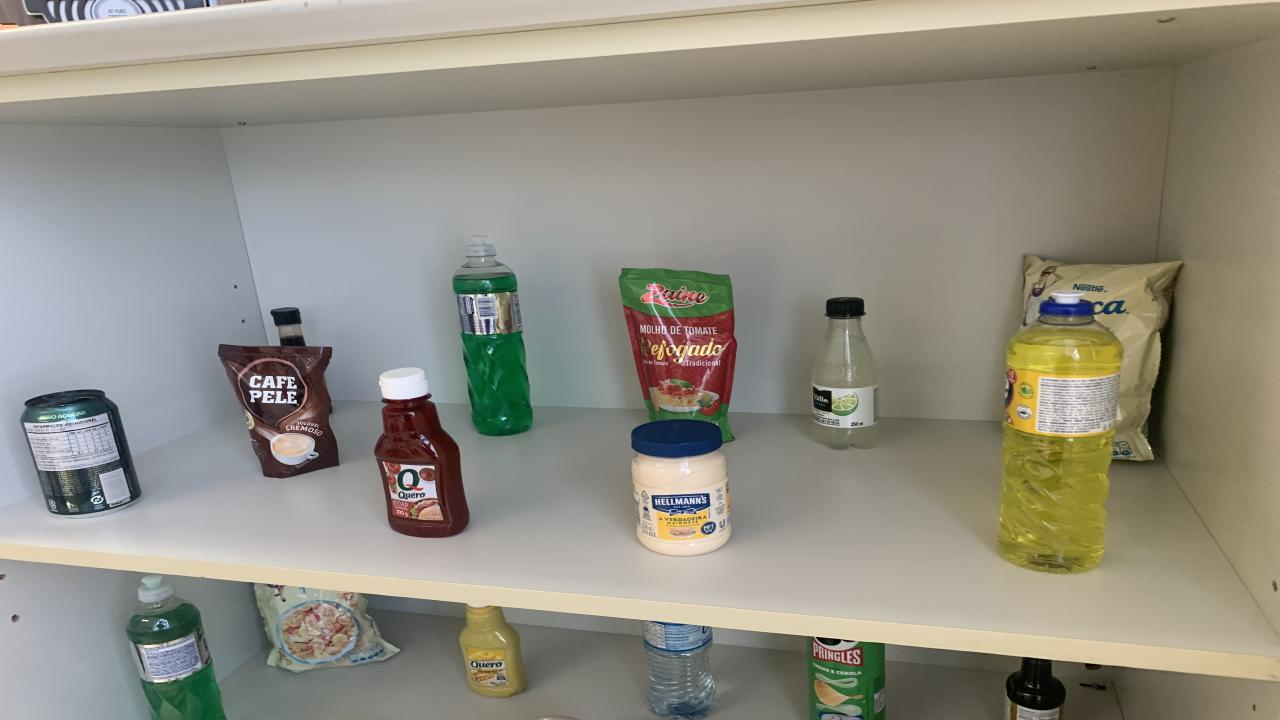Coffee-Pantry_Items: (218, 345, 340, 478)
Detergent-Cleanup_Items: (998, 291, 1122, 572), (452, 234, 532, 435), (125, 574, 225, 720), (452, 253, 532, 435)
English_Sauce-Pantry_Items: (1005, 658, 1065, 720), (270, 308, 305, 345)
Flakes-Snacks: (1022, 253, 1182, 461), (255, 583, 400, 673)
Guarana_Can-Drinks: (20, 390, 140, 518)
Ketchup-Pantry_Items: (375, 368, 470, 536), (508, 399, 510, 401)
Mayonnaise-Pantry_Items: (632, 420, 730, 555)
Mustard-Pantry_Items: (460, 604, 528, 698)
Pringles-Snacks: (808, 638, 885, 720)
Soda-Drinks: (812, 296, 878, 450)
Tomato_Sauce-Pantry_Items: (620, 268, 738, 441)
Water_Bottle-Drinks: (642, 621, 715, 718)
